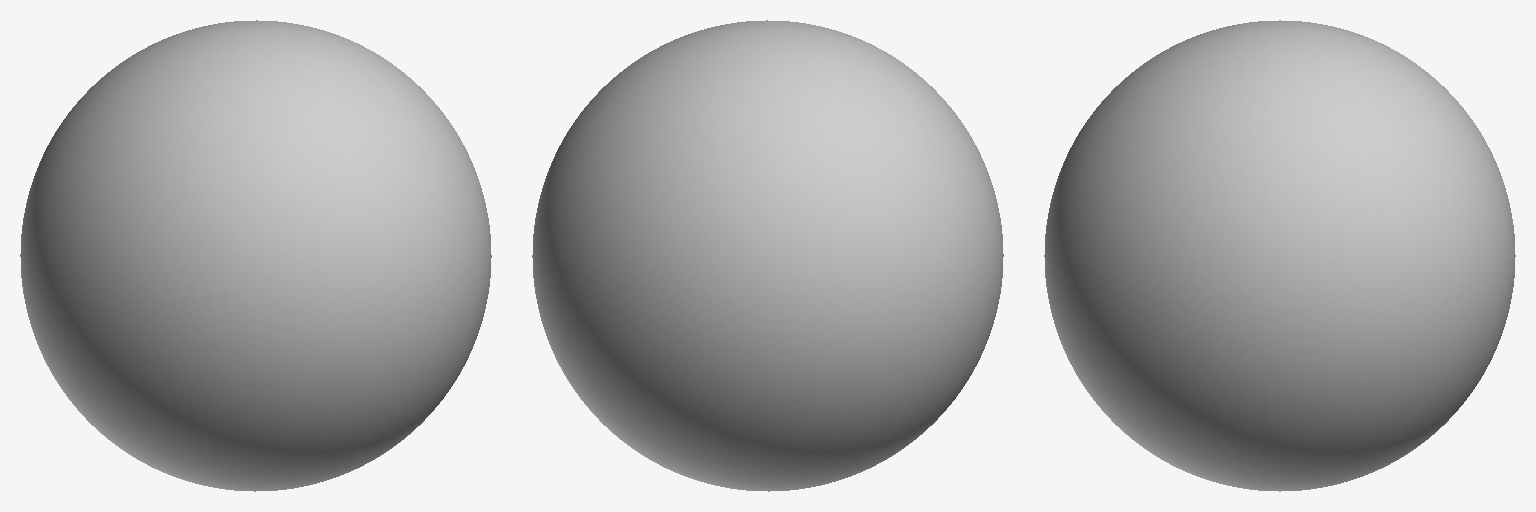
3 views of the same model, side by side, from view 1: azimuth 30°, elevation 25°; view 2: azimuth 150°, elevation 25°; view 3: azimuth 270°, elevation 25° (orthographic).
Visible parts, largest first — view 1: Quad_Sphere; view 2: Quad_Sphere; view 3: Quad_Sphere.
Part boxes in pixels (x1,y1,x2,y2): Quad_Sphere: (20, 20, 491, 491); Quad_Sphere: (532, 20, 1003, 491); Quad_Sphere: (1044, 20, 1515, 491).
Size of the model in its own units: 2.57 by 2.57 by 2.57.